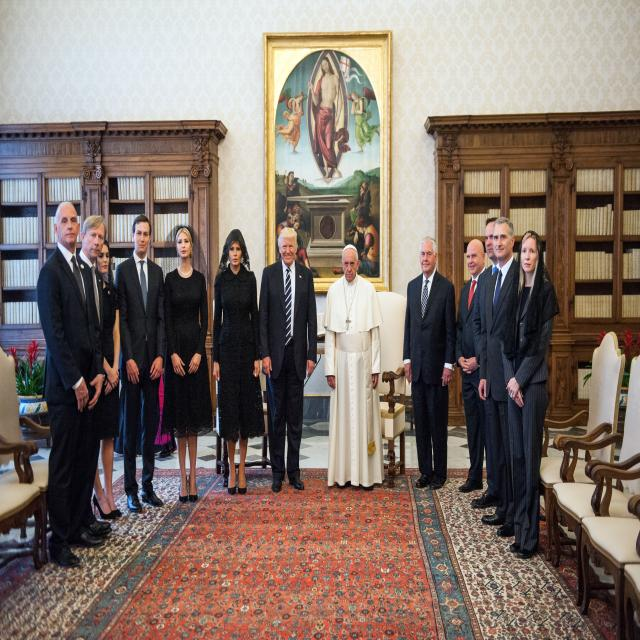body: (35, 199, 106, 570), (272, 49, 380, 276), (496, 229, 562, 561), (319, 242, 386, 492), (257, 225, 319, 493), (113, 212, 167, 514), (211, 227, 267, 496), (163, 223, 214, 507), (402, 235, 458, 492), (477, 215, 518, 538), (91, 238, 123, 522), (454, 238, 489, 495), (470, 217, 500, 508), (77, 214, 107, 335)
